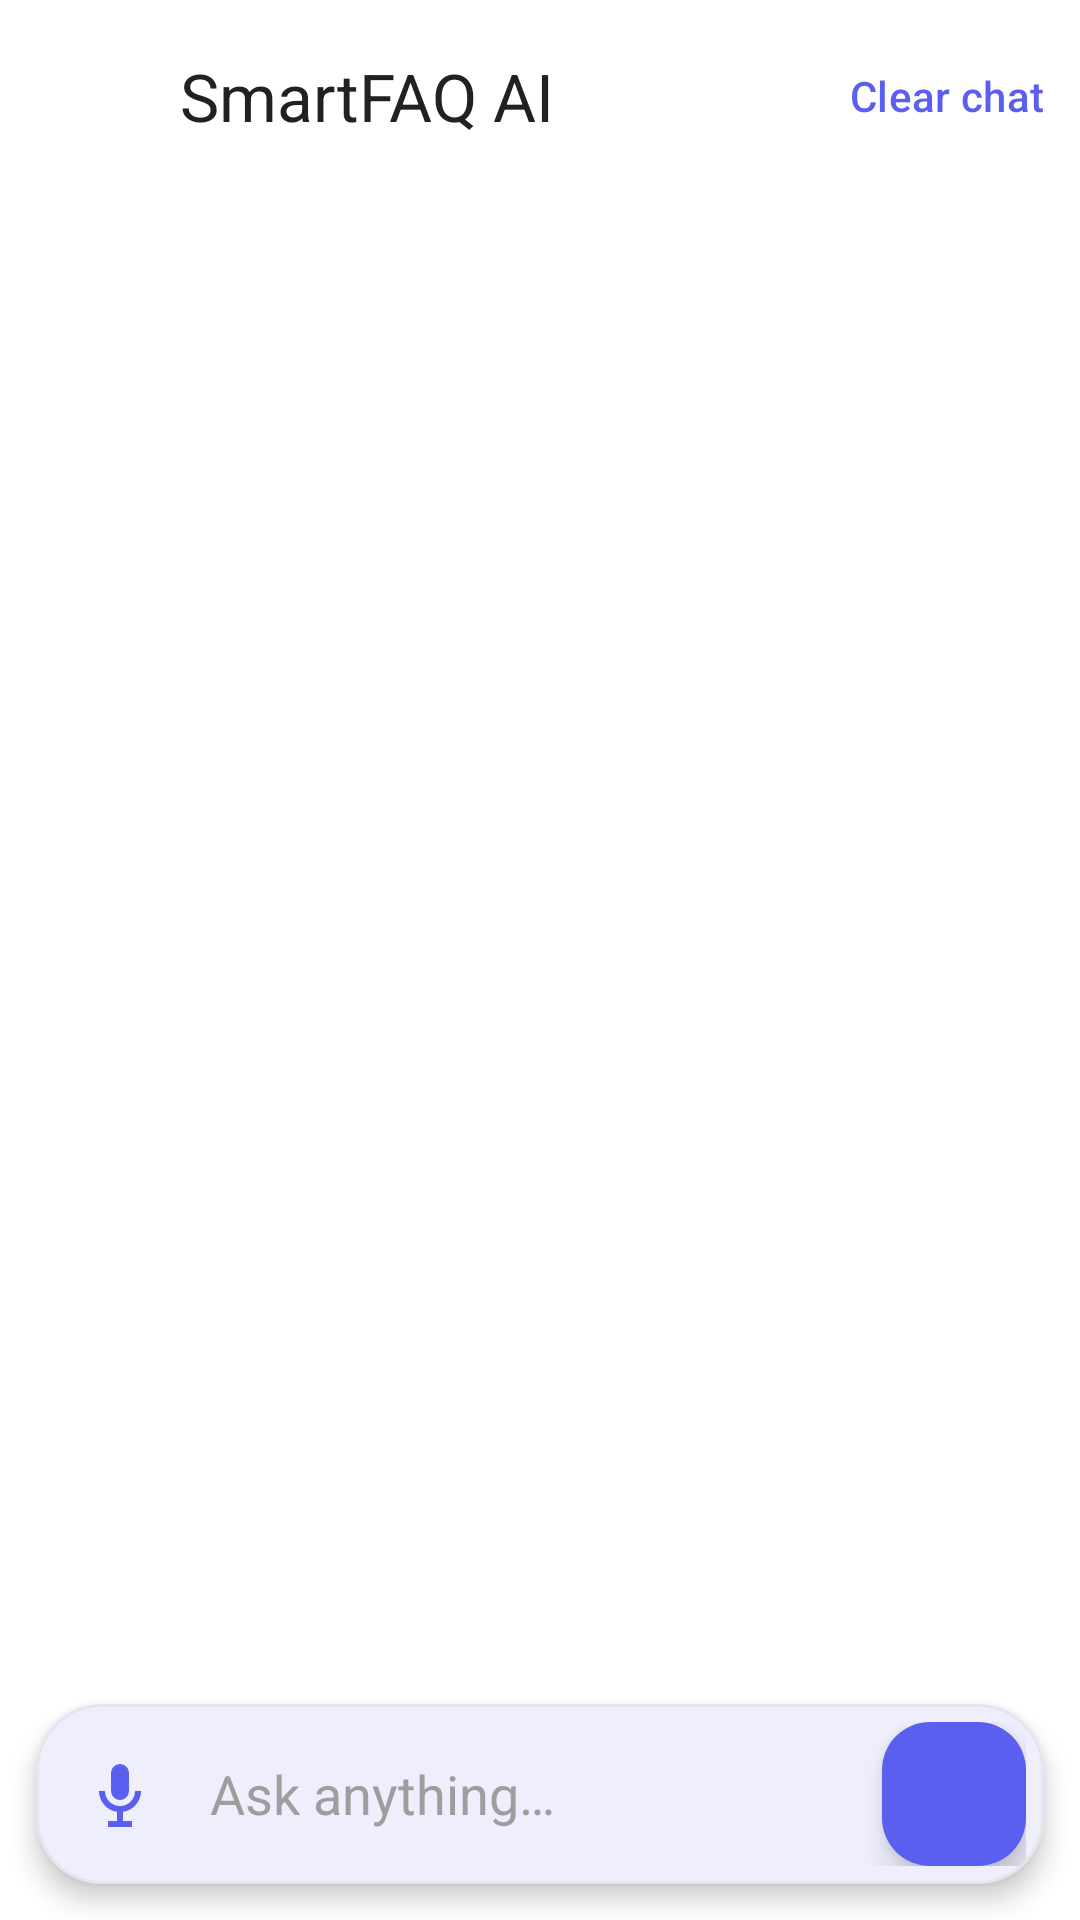

Icon bounding boxes for this 1080w x 1920h phone screenshot, format box=[x1, y1, x2, y2]:
Voice input: box=[99, 1764, 141, 1827]
